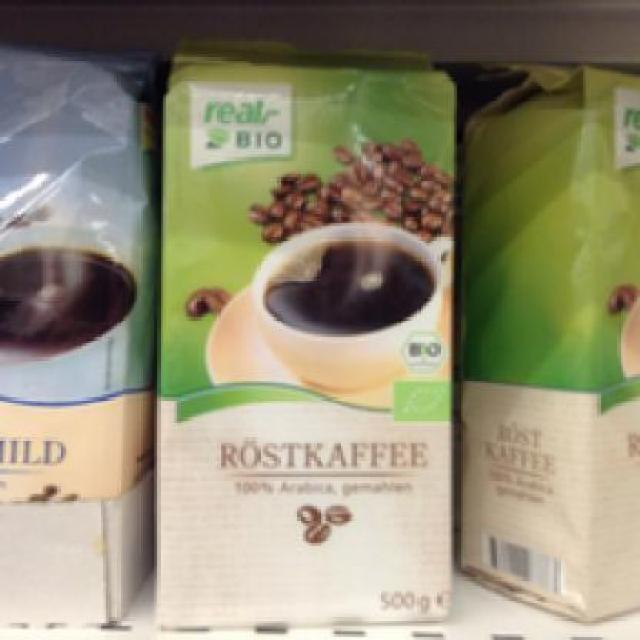Coffee: (154, 31, 454, 620), (454, 65, 637, 618), (0, 40, 149, 489)
